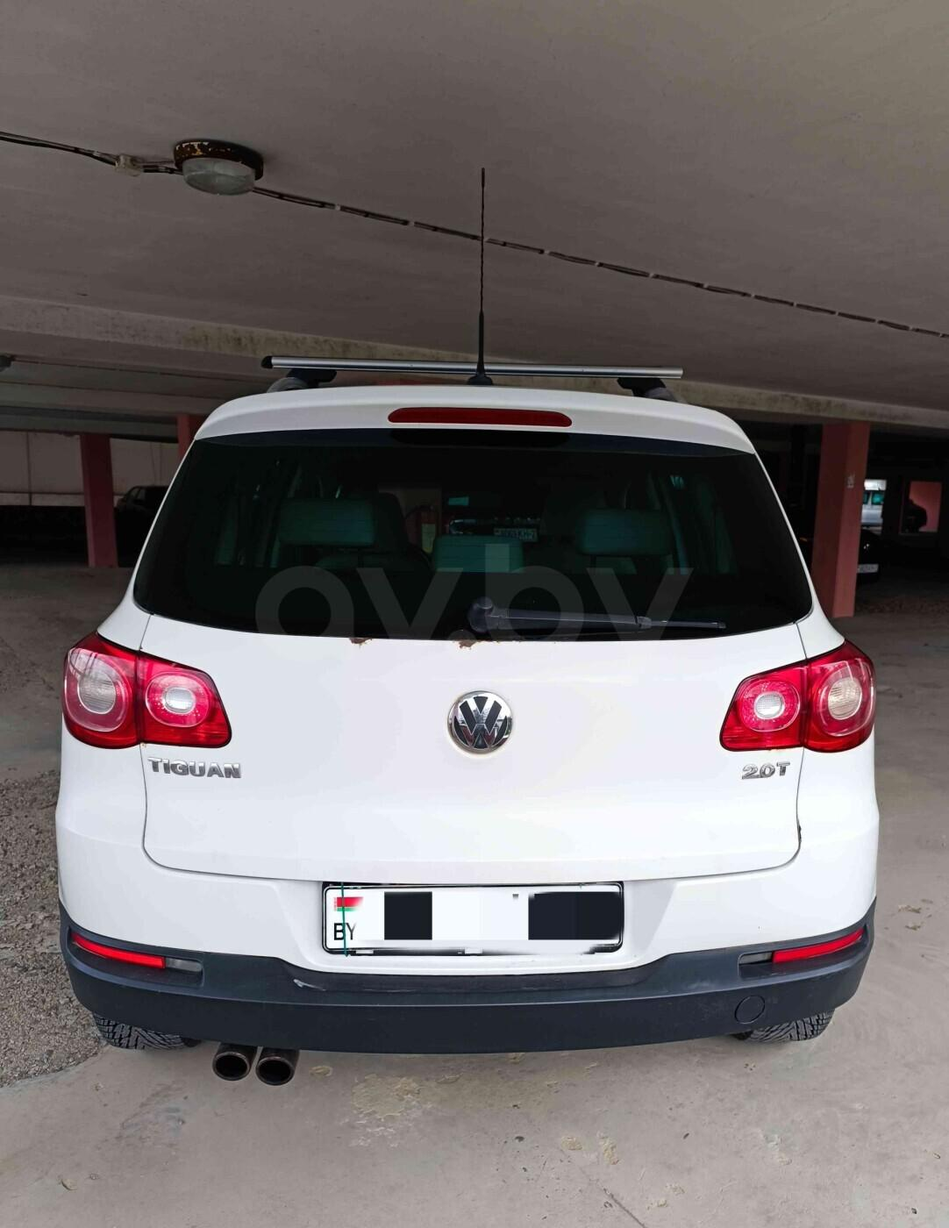Tiguan_2007-2011: (42, 370, 879, 1093)
